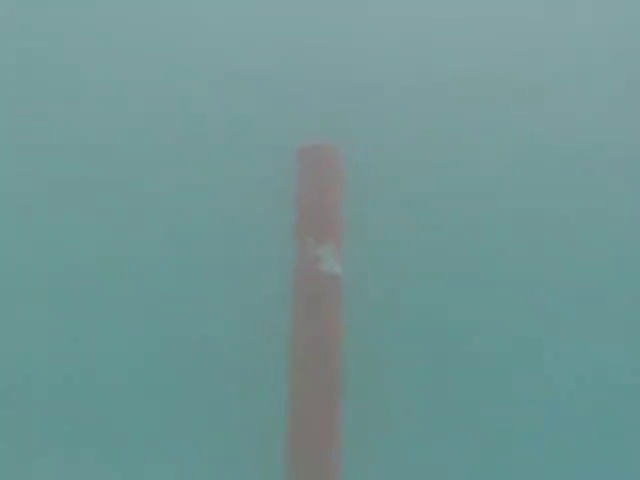flare: (273, 124, 357, 480)
